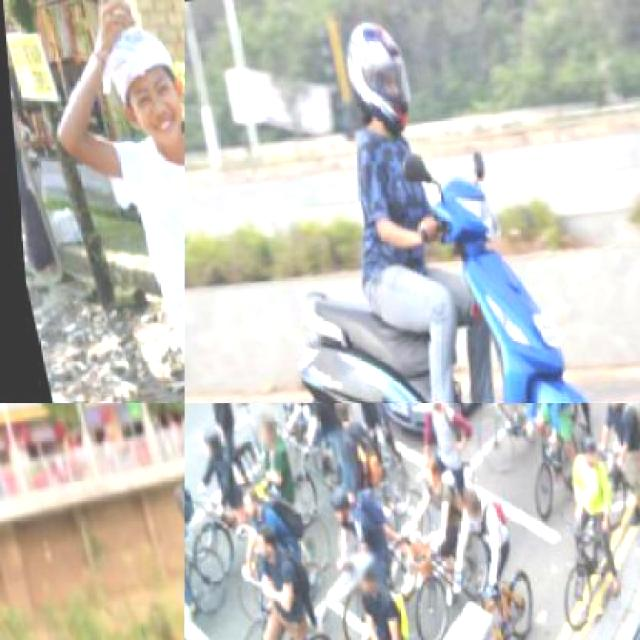With Helmet: (332, 5, 422, 157), (333, 546, 379, 603), (317, 483, 352, 535), (571, 436, 598, 478), (196, 424, 218, 459), (598, 403, 624, 417)
Without Helmet: (89, 20, 183, 132), (238, 522, 278, 566), (248, 412, 278, 456), (455, 488, 477, 524), (411, 403, 449, 423)
